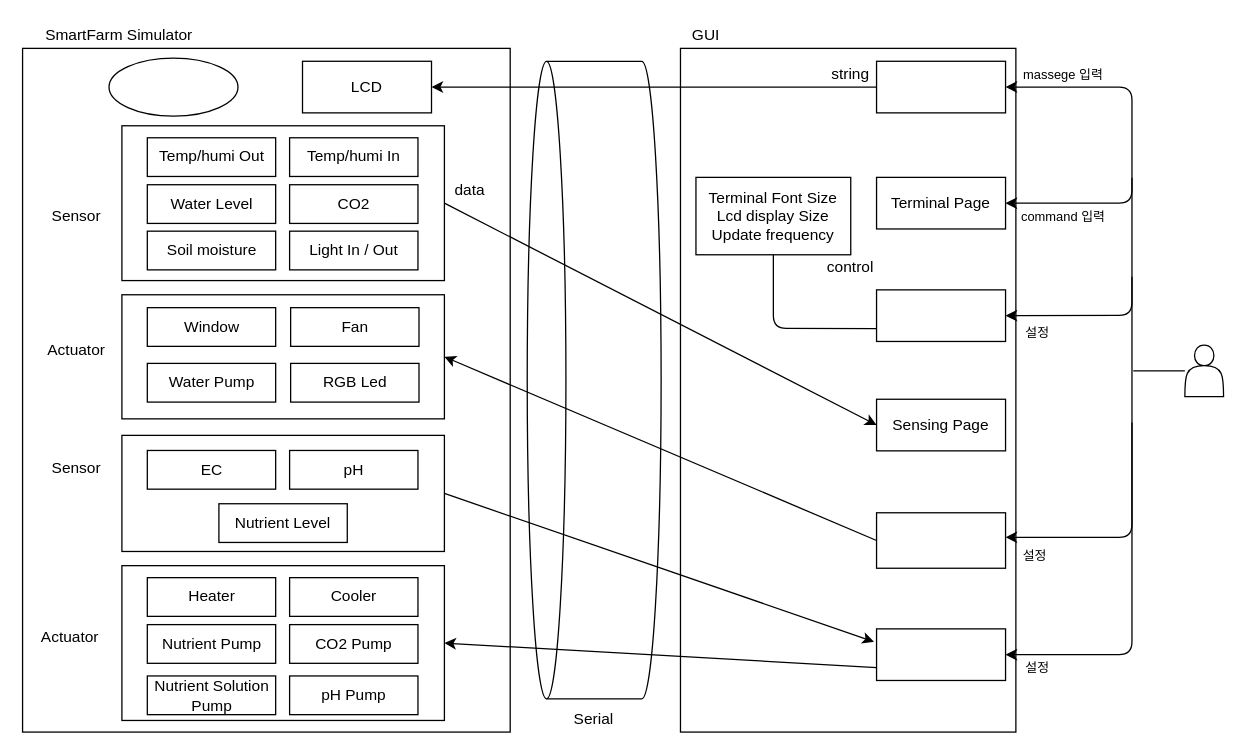
The diagram is 1246 pixels wide and 755 high, and some of its shapes have lost their labels. The centre of each missing label's shape, as x and y in pixels:
Actuator Page: the point at 940,539
LCD Page: the point at 940,86
Option Page: the point at 940,654
pop library: the point at 173,86
Setting Page: the point at 940,315
